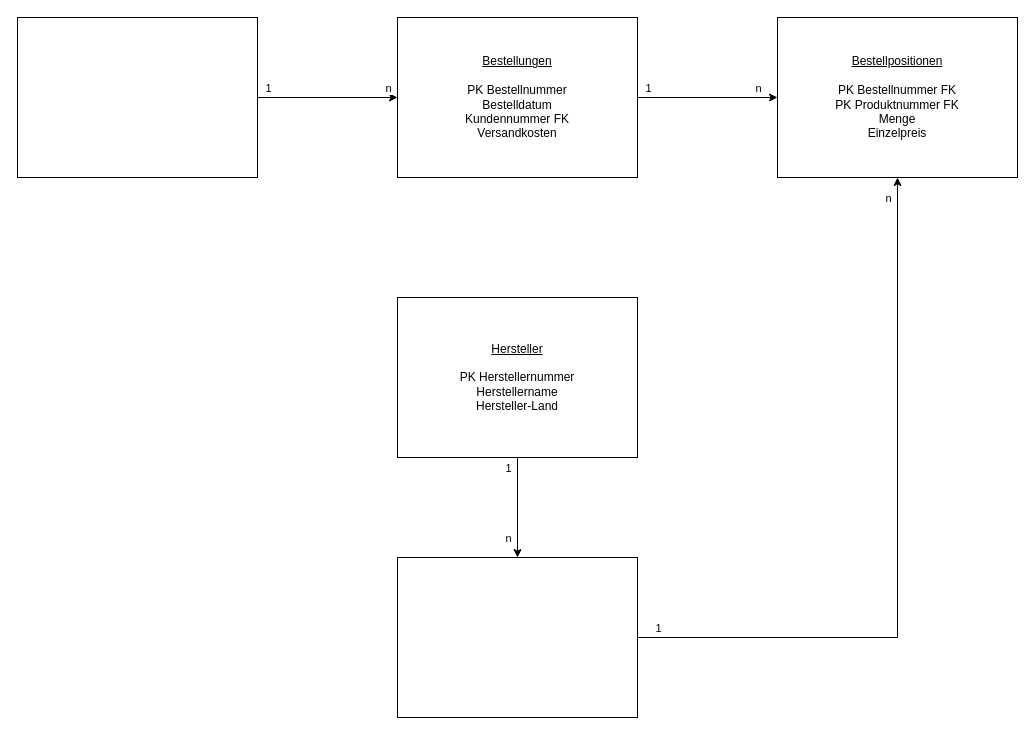
The diagram is 1035 pixels wide and 735 high, and some of its shapes have lost their labels. The box of each missing label's shape, as (x1, y1, x2, y2) in pixels:
Kunden PK Kundennummer Kundenname Strasse Hausnummer Postleitzahl Wohnort Land: (16, 16, 258, 178)
Produkte PK Produktnummer Produktbezeichnung Herstellernummer FK: (396, 556, 638, 718)
